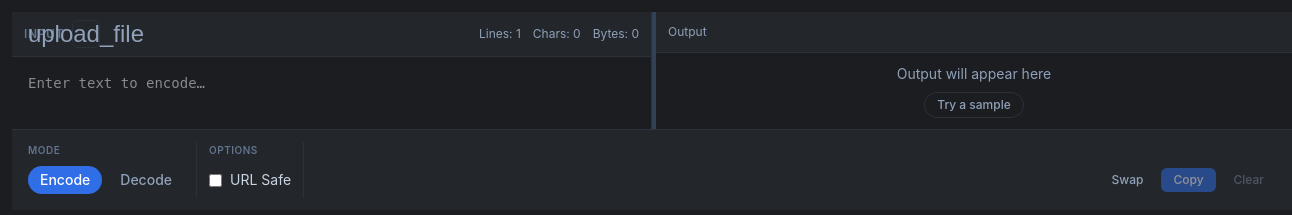
Scenario: Base64Tool › swap button swaps input and output AND flips the mode — output is decoded not re-encoded
The width and height of the screenshot is (1292, 215).
In the text box named "base64 input text": (332, 93) [12,57,651,129], type "Hello"
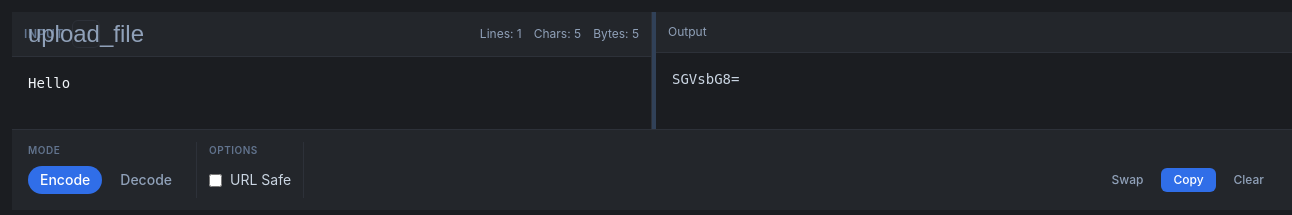
Click the button with aria-label "swap input and output": click(1127, 180) [1100,168,1155,192]
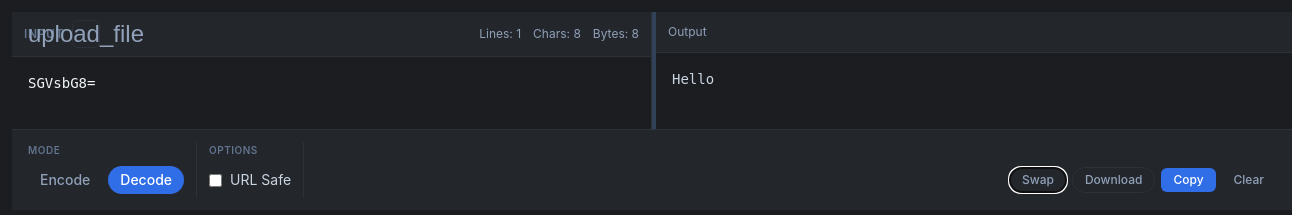
Expected: the text named "base64 output" reads "Hello", [672,71,714,87]
